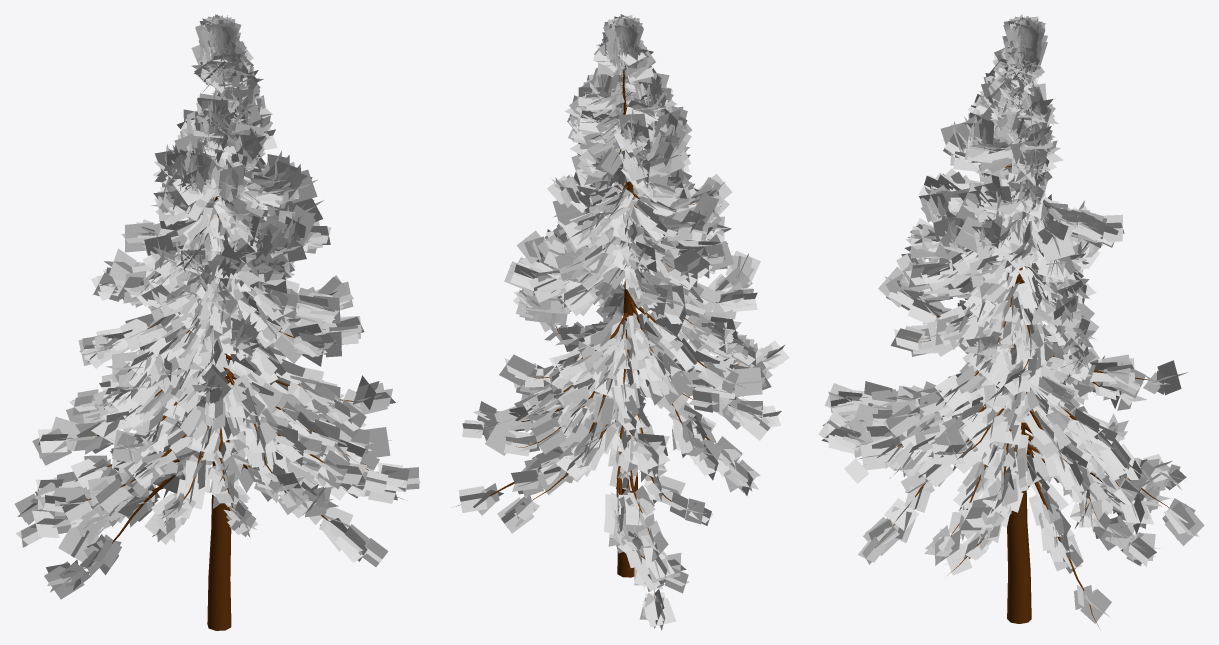
The model's file is pinheiro2.glb.
3 views of the same model, side by side, from view 1: azimuth 30°, elevation 25°; view 2: azimuth 150°, elevation 25°; view 3: azimuth 270°, elevation 25° (orthographic). The views are drawn at different scales.
Parts seen in each view (by area): view 1: Mesh_0.001; view 2: Mesh_0.001; view 3: Mesh_0.001.
Part boxes in pixels (x1,y1,x2,y2): Mesh_0.001: (14,14,420,630); Mesh_0.001: (456,14,789,630); Mesh_0.001: (818,14,1204,628).
Size of the model in its own units: 37.87 by 68.5 by 39.79.
